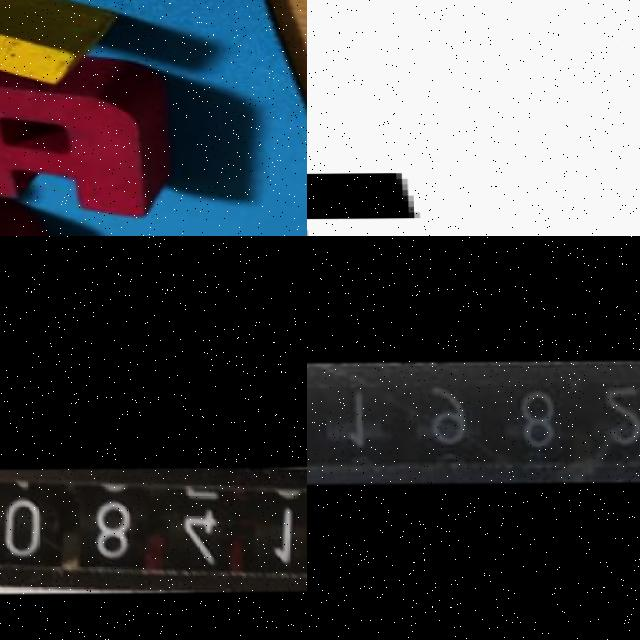0: (0, 496, 37, 558)
1: (338, 385, 368, 451), (267, 505, 294, 566)
2: (599, 382, 640, 450)
4: (178, 507, 215, 572)
8: (511, 389, 552, 451), (88, 501, 130, 561)
9: (423, 381, 464, 448)
F: (307, 0, 518, 236)
L: (0, 0, 117, 123)
